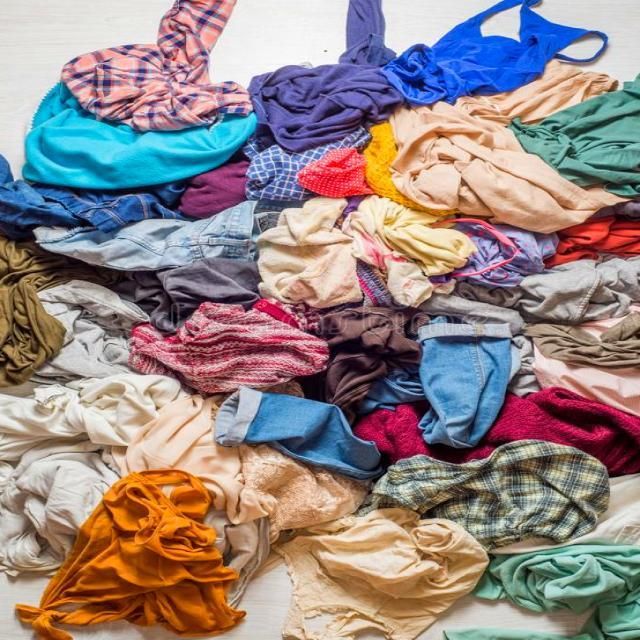clothes: (272, 0, 560, 218), (21, 462, 214, 636), (21, 76, 252, 196), (281, 508, 477, 640), (266, 207, 520, 306), (385, 442, 613, 540), (69, 0, 251, 121), (508, 42, 640, 201), (134, 292, 322, 392), (465, 535, 640, 634), (512, 248, 640, 376)
